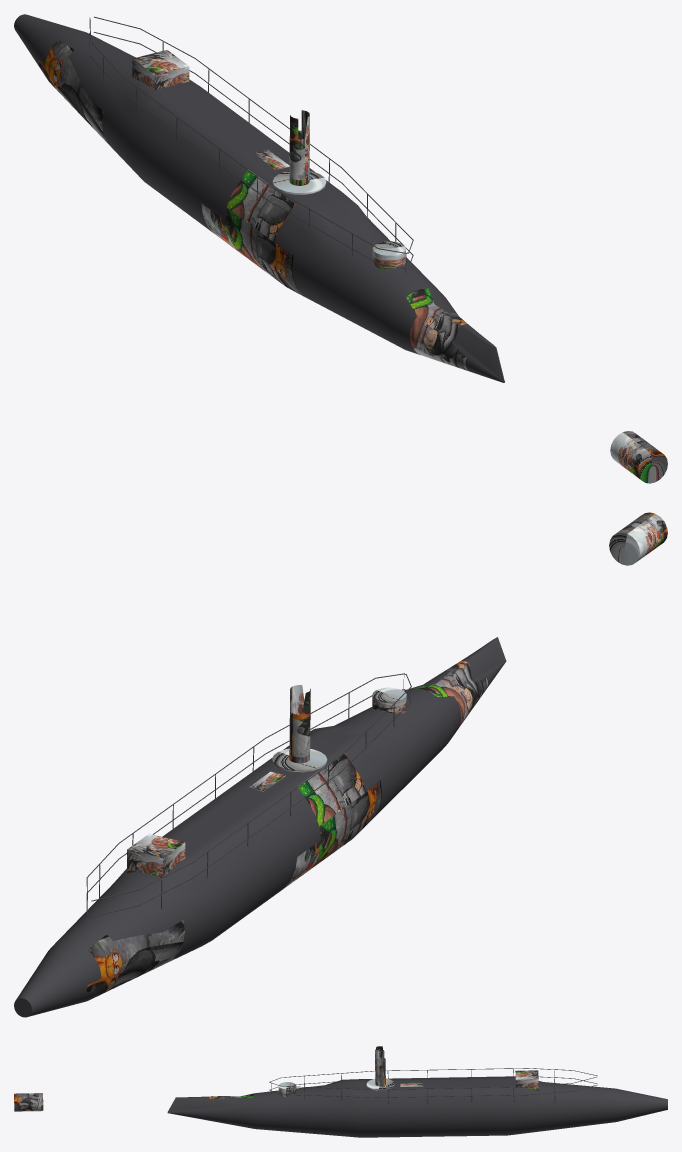
3 views of the same model, one above another, from view 1: azimuth 30°, elevation 25°; view 2: azimuth 150°, elevation 25°; view 3: azimuth 270°, elevation 25° (orthographic). The views are drawn at different scales.
Parts seen in each view (by area): view 1: Torpedo; view 2: Torpedo; view 3: Torpedo.
Boxes of the visible parts, <box> form: Torpedo: <box>14,14,667,483</box>; Torpedo: <box>14,512,667,1017</box>; Torpedo: <box>14,1046,667,1137</box>.
Size of the model in its own units: 0.2615 by 0.4309 by 2.94.
1 material, 1 textured.
